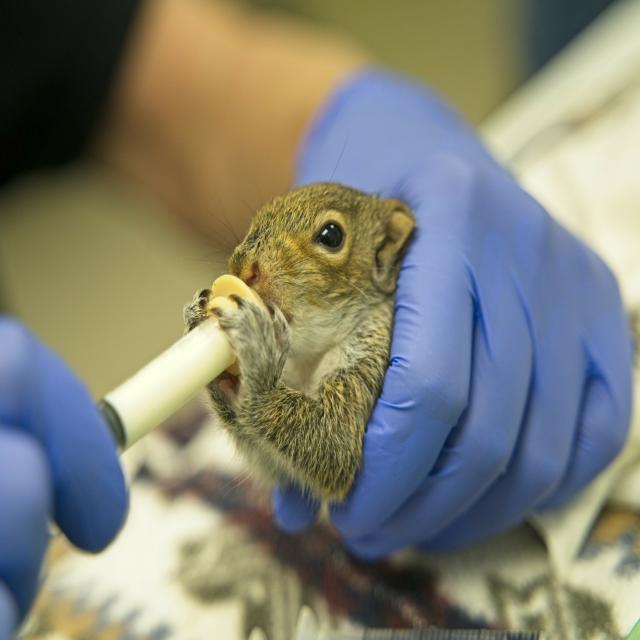Squirrel: (180, 178, 401, 508)
